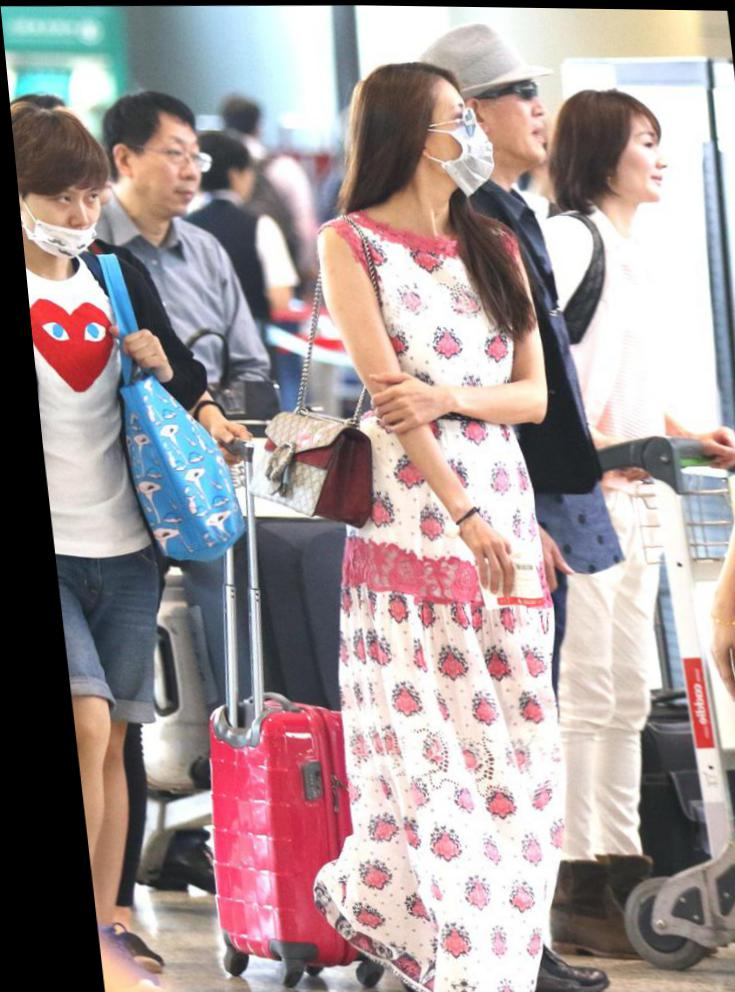NONE: (463, 83, 548, 167), (123, 138, 209, 215), (596, 133, 667, 203)
OK: (406, 97, 498, 201)
WRONG: (17, 174, 103, 255)
